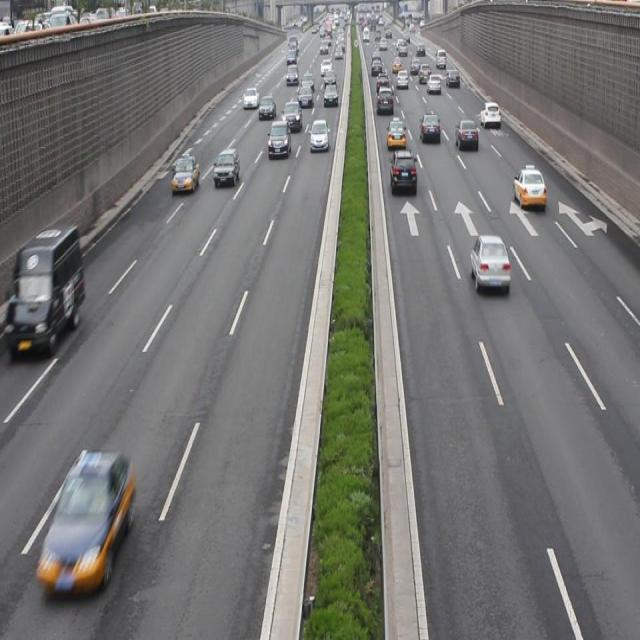car: (37, 449, 134, 589), (468, 231, 509, 289), (512, 166, 544, 210), (389, 150, 418, 194), (171, 153, 200, 192), (212, 148, 238, 187), (267, 120, 291, 158), (453, 117, 478, 152), (419, 111, 440, 144), (309, 118, 329, 152), (479, 98, 500, 130), (386, 116, 406, 149), (282, 100, 302, 132)
truck: (1, 221, 86, 355)
